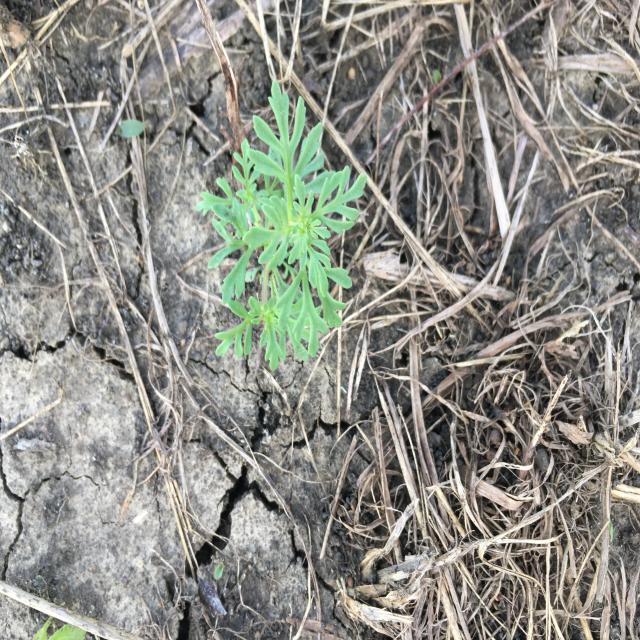Ragweed: (194, 78, 367, 374)
